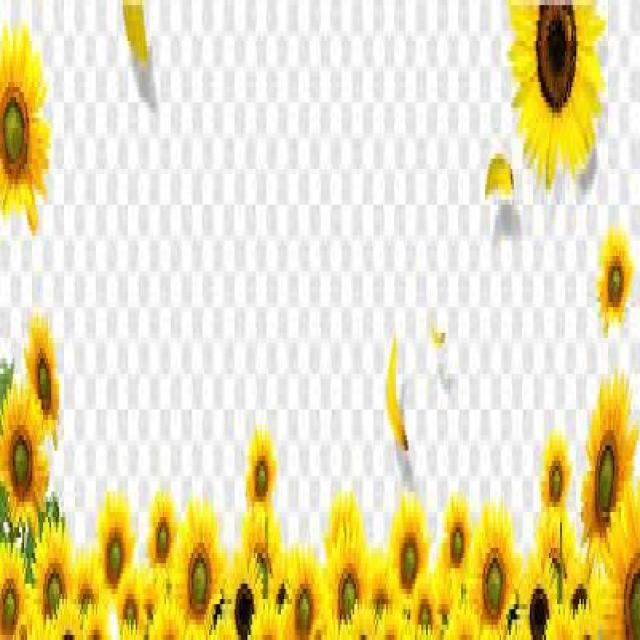sunflower: (508, 0, 606, 189), (580, 369, 639, 558), (0, 24, 50, 230), (167, 497, 222, 635), (0, 374, 48, 527), (468, 497, 520, 635), (602, 476, 638, 635), (322, 522, 367, 640), (25, 318, 59, 446), (32, 512, 72, 620), (388, 501, 428, 604), (598, 225, 634, 333), (96, 490, 134, 589), (243, 503, 281, 597), (282, 546, 322, 635), (225, 549, 264, 639), (538, 504, 576, 593), (519, 555, 557, 640), (0, 537, 26, 635), (246, 431, 276, 507), (541, 439, 571, 512), (147, 493, 176, 563), (72, 550, 101, 618), (444, 494, 468, 567), (273, 550, 292, 640), (115, 573, 140, 638), (367, 552, 391, 617), (47, 594, 80, 640), (564, 554, 592, 608), (147, 599, 182, 640), (567, 602, 597, 640), (447, 599, 474, 640), (83, 601, 107, 640), (330, 496, 359, 526), (376, 612, 404, 640)
